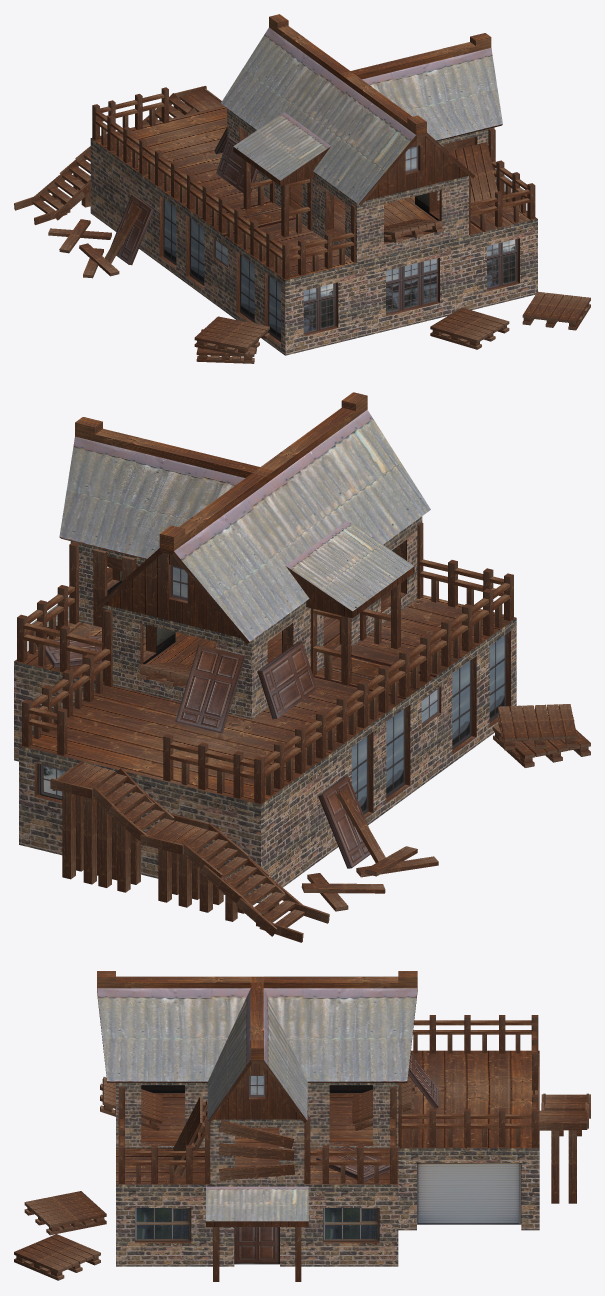
File: building_1.fbx
3 views of the same model, one above another, from view 1: azimuth 30°, elevation 25°; view 2: azimuth 150°, elevation 25°; view 3: azimuth 270°, elevation 25° (orthographic). The views are drawn at different scales.
Visible parts, largest first — view 1: Box01.001; view 2: Box01.001; view 3: Box01.001.
Part boxes in pixels (x1,y1,x2,y2): Box01.001: (14,14,590,363); Box01.001: (14,392,590,942); Box01.001: (14,971,590,1281).
Size of the model in its own units: 2412 by 1327 by 3066.
Materials: 1 (1 with a texture image).
